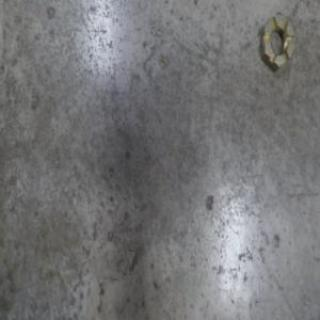Nuttrack_idkeyframe: (258, 10, 296, 76)
